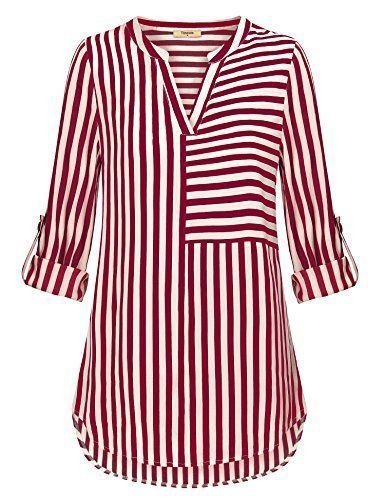striped: (18, 14, 364, 492)
